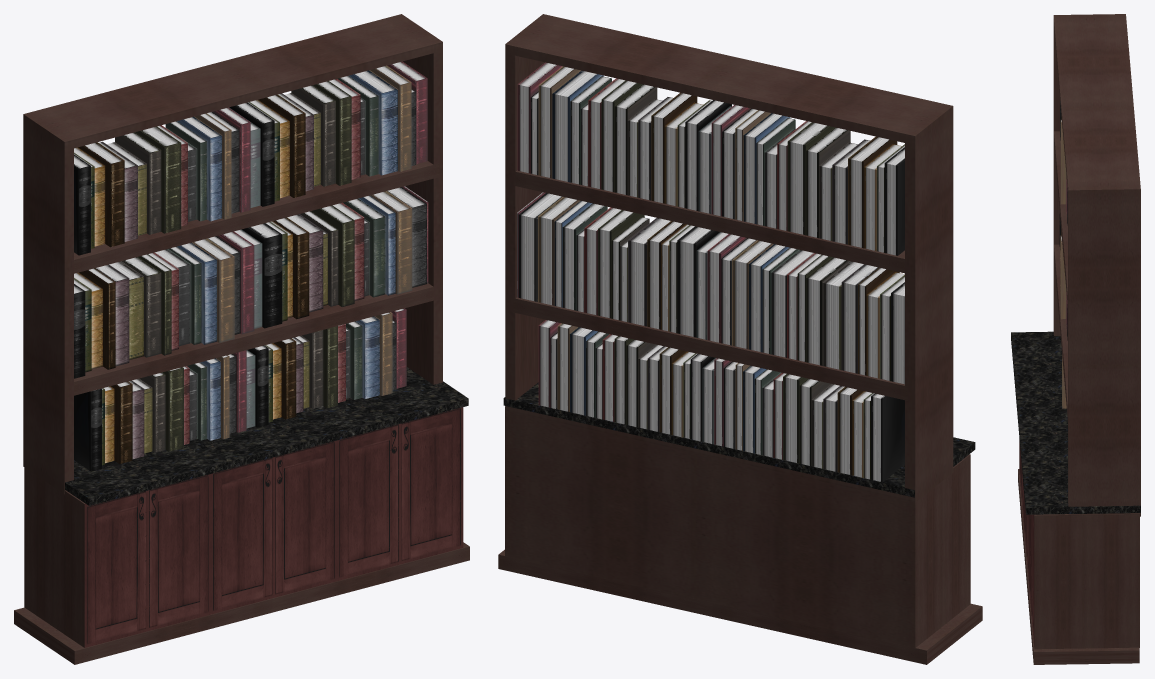
File: Art_books.fbx
The picture shows the model from 3 angles, left to right: view 1: azimuth 30°, elevation 25°; view 2: azimuth 150°, elevation 25°; view 3: azimuth 270°, elevation 25°; orthographic projection. The views are drawn at different scales.
Parts seen in each view (by area): view 1: cabinets, frame, books_top, books_mid, books_btm, btmshelf, base, topshelf, midshelf; view 2: cabinets, frame, books_top, books_mid, books_btm, base, midshelf, topshelf, btmshelf; view 3: frame, cabinets, btmshelf, base, topshelf, midshelf, books_mid, books_top.
Part boxes in pixels (x1,y1,x2,y2): cabinets: (24,407,463,647); frame: (23,14,442,494); books_top: (74,61,427,255); books_mid: (74,186,428,378); books_btm: (74,308,406,471); btmshelf: (65,367,468,505); base: (14,542,469,664); topshelf: (74,161,439,273); midshelf: (74,283,433,395); cabinets: (505,406,970,648); frame: (505,14,953,502); books_top: (517,62,904,255); books_mid: (517,192,904,384); books_btm: (538,320,904,482); base: (498,549,982,664); midshelf: (513,297,907,400); topshelf: (515,170,904,273); btmshelf: (503,382,975,497); frame: (1053,14,1140,516); cabinets: (1019,439,1139,649); btmshelf: (1011,331,1140,514); base: (1018,469,1139,664); topshelf: (1054,131,1068,311); midshelf: (1054,244,1067,420); books_mid: (1059,214,1067,340); books_top: (1060,101,1067,225).
Size of the model in its own units: 361 by 429 by 107.
Materials: 20 (20 with a texture image).
